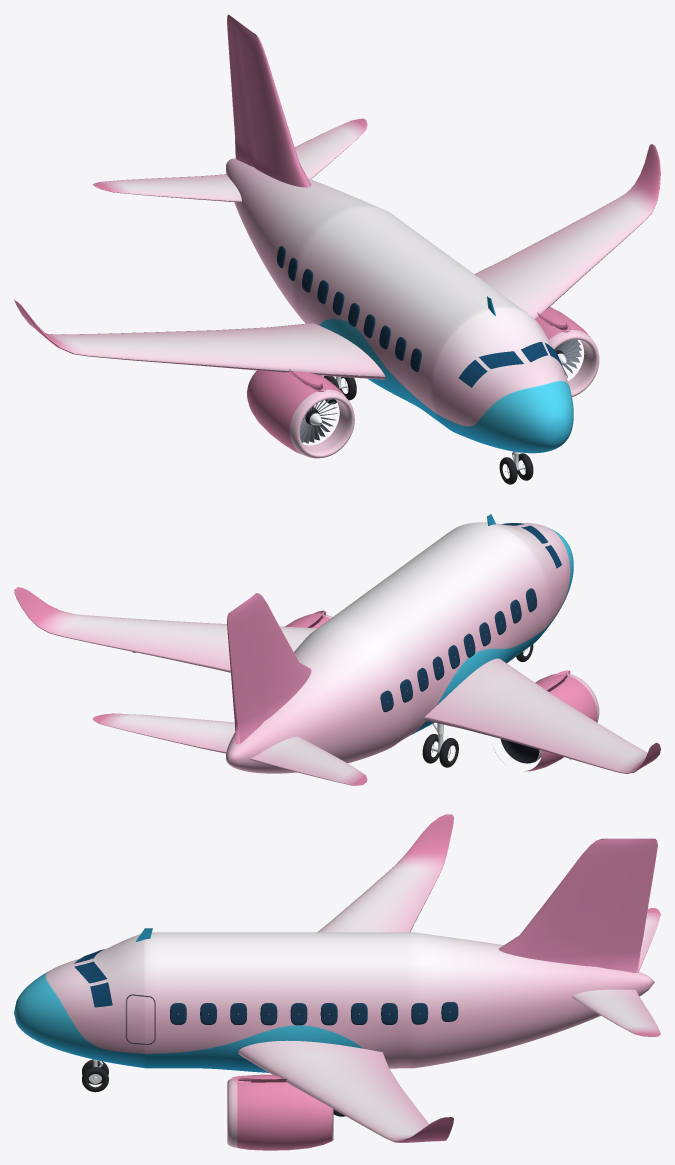
The picture shows the model from 3 angles, top to bottom: view 1: azimuth 30°, elevation 25°; view 2: azimuth 150°, elevation 25°; view 3: azimuth 270°, elevation 25°; orthographic projection. The views are drawn at different scales.
Visible parts, largest first — view 1: Fuselage, MainWingsAndWinglets, VerticalTailFin, HorizontalStabilizers, EngineNacellesAndPylons, EngineIntakeLips, PassengerWindows, CockpitWindows, EngineFanBlades, LandingGearTires; view 2: Fuselage, MainWingsAndWinglets, VerticalTailFin, HorizontalStabilizers, PassengerWindows, EngineNacellesAndPylons, LandingGearTires, EngineDarkInteriors; view 3: Fuselage, MainWingsAndWinglets, VerticalTailFin, EngineNacellesAndPylons, PassengerWindows, HorizontalStabilizers, CockpitWindows, EngineIntakeLips, LandingGearTires.
Boxes of the visible parts, bbox=[...] form: Fuselage: bbox=[226, 158, 573, 453]; MainWingsAndWinglets: bbox=[14, 144, 660, 379]; VerticalTailFin: bbox=[227, 14, 311, 187]; HorizontalStabilizers: bbox=[92, 118, 367, 202]; EngineNacellesAndPylons: bbox=[247, 307, 589, 454]; EngineIntakeLips: bbox=[289, 330, 599, 458]; PassengerWindows: bbox=[277, 246, 421, 372]; CockpitWindows: bbox=[459, 341, 561, 387]; EngineFanBlades: bbox=[300, 339, 581, 443]; LandingGearTires: bbox=[323, 374, 533, 484]; Fuselage: bbox=[226, 522, 573, 773]; MainWingsAndWinglets: bbox=[14, 587, 660, 773]; VerticalTailFin: bbox=[227, 593, 311, 744]; HorizontalStabilizers: bbox=[92, 713, 367, 785]; PassengerWindows: bbox=[380, 588, 536, 712]; EngineNacellesAndPylons: bbox=[285, 610, 597, 771]; LandingGearTires: bbox=[422, 644, 533, 767]; EngineDarkInteriors: bbox=[500, 739, 539, 763]; Fuselage: bbox=[14, 932, 654, 1072]; MainWingsAndWinglets: bbox=[238, 814, 453, 1142]; VerticalTailFin: bbox=[498, 838, 657, 972]; EngineNacellesAndPylons: bbox=[231, 1074, 332, 1150]; PassengerWindows: bbox=[170, 1002, 458, 1025]; HorizontalStabilizers: bbox=[572, 908, 660, 1036]; CockpitWindows: bbox=[74, 949, 112, 1007]; EngineIntakeLips: bbox=[227, 1078, 333, 1147]; LandingGearTires: bbox=[82, 1060, 345, 1116].
Size of the model in its own units: 9.5 by 3.67 by 8.58.
16 materials, 3 textured.
